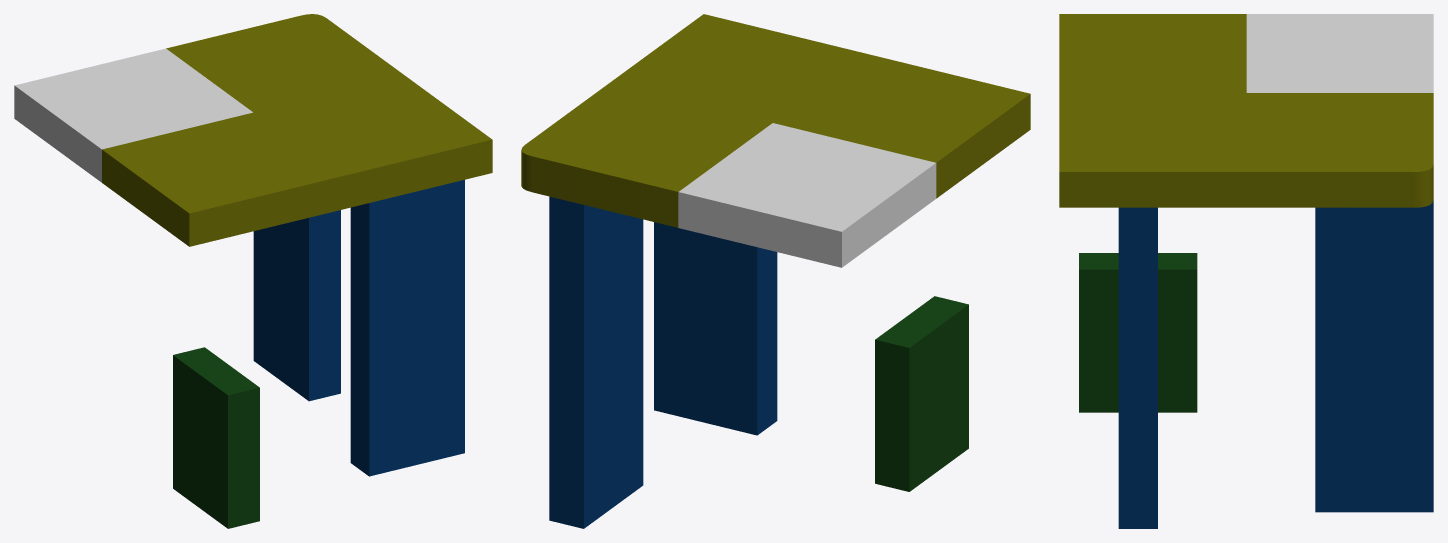
The model's file is T8DirL.fbx.
3 renders of one model, left to right at view 1: azimuth 30°, elevation 25°; view 2: azimuth 150°, elevation 25°; view 3: azimuth 270°, elevation 25°, orthographic. The views are drawn at different scales.
Visible parts, largest first — view 1: 1, 3, 2, 4; view 2: 2, 1, 3, 4; view 3: 2, 1, 3, 4.
Boxes of the visible parts, bbox=[...] form: 1: bbox=[254, 75, 492, 476]; 3: bbox=[102, 112, 340, 528]; 2: bbox=[166, 14, 404, 401]; 4: bbox=[14, 48, 252, 182]; 2: bbox=[521, 83, 772, 528]; 1: bbox=[610, 14, 866, 435]; 3: bbox=[773, 54, 1030, 491]; 4: bbox=[678, 123, 936, 267]; 2: bbox=[1246, 93, 1433, 512]; 1: bbox=[1059, 93, 1246, 528]; 3: bbox=[1059, 14, 1246, 412]; 4: bbox=[1246, 14, 1433, 92].
Bounding box in the file's own units: 190 × 200 × 190.
